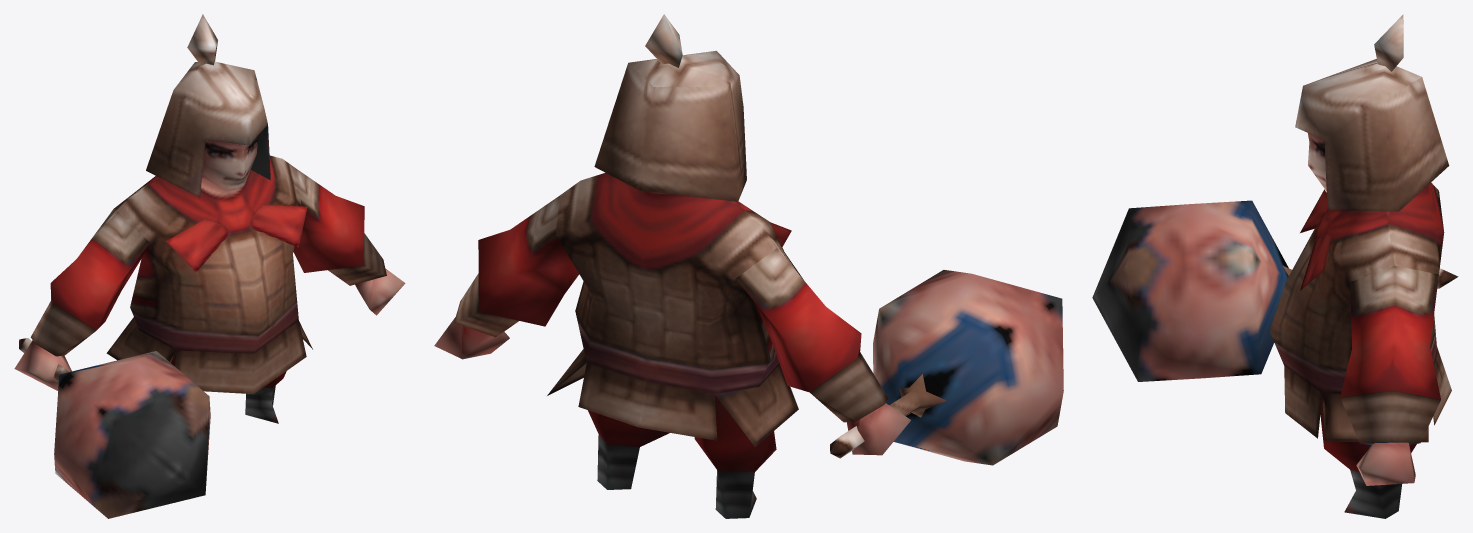
Rendered from chuibing_01.FBX.
3 views of the same model, side by side, from view 1: azimuth 30°, elevation 25°; view 2: azimuth 150°, elevation 25°; view 3: azimuth 270°, elevation 25° (orthographic). The views are drawn at different scales.
Visible parts, largest first — view 1: Soldier3_1; view 2: Soldier3_1; view 3: Soldier3_1.
Part boxes in pixels (box(x1,y1,x2,y2)): Soldier3_1: box(14, 14, 405, 518); Soldier3_1: box(434, 14, 1063, 518); Soldier3_1: box(1092, 14, 1458, 518).
Bounding box in the file's own units: 132 × 84.89 × 120.
